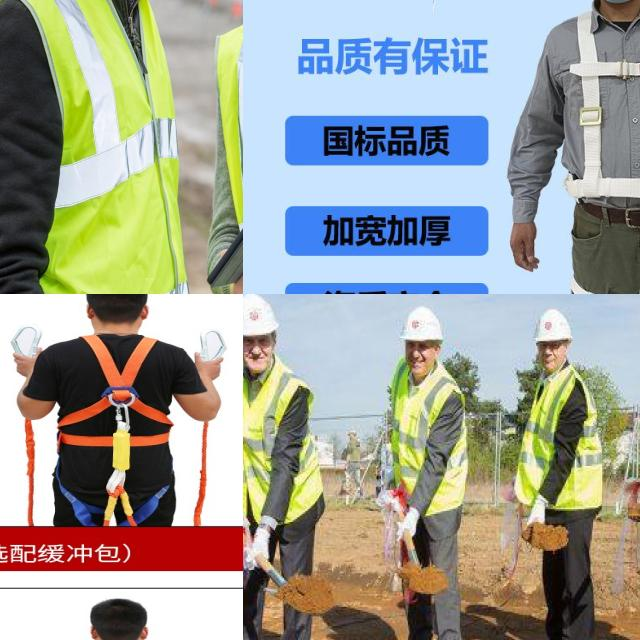Harness: (563, 7, 640, 234), (68, 333, 175, 492)
face_nomask: (243, 326, 278, 381), (402, 340, 442, 380), (535, 335, 567, 376)
hand_glove: (248, 526, 275, 572), (399, 508, 424, 544), (524, 496, 550, 530)
hand_noglove: (223, 237, 243, 294)
head_helmet: (395, 310, 441, 345), (243, 294, 278, 338), (531, 309, 572, 341)
person: (0, 0, 189, 294), (375, 307, 471, 640), (516, 309, 604, 640), (243, 294, 314, 640)
vest: (0, 0, 192, 294), (243, 363, 317, 522), (519, 367, 596, 517), (390, 367, 466, 517)
